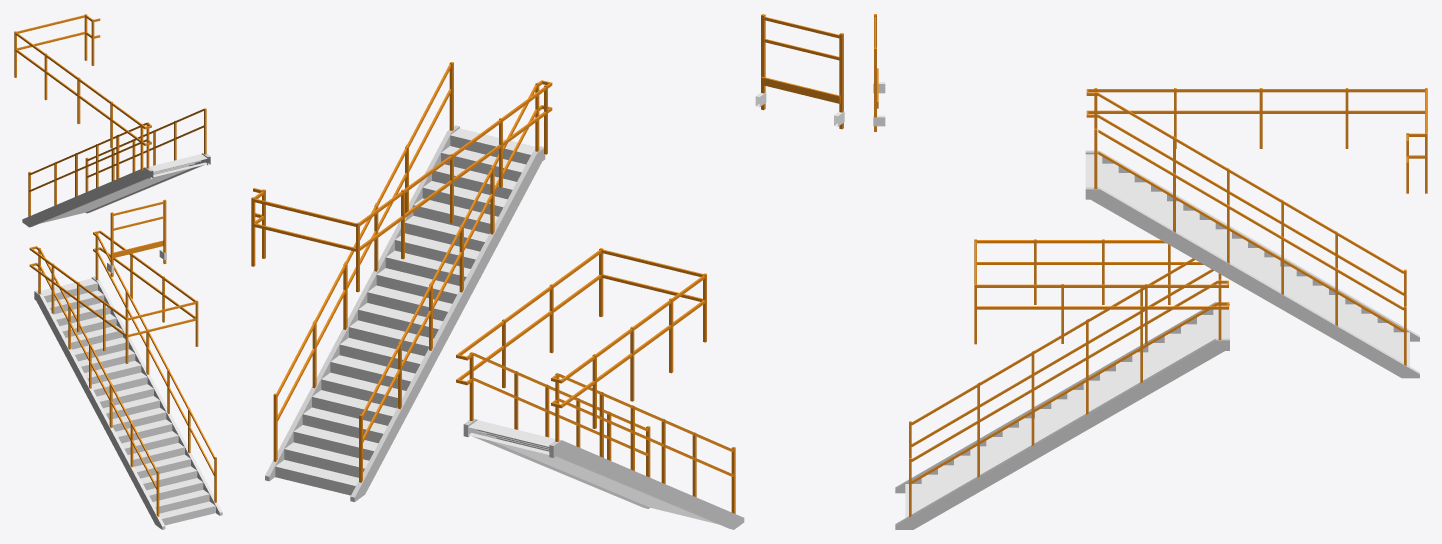
File: SM_H_Building_Tide_DeepJail_04_Shelf_02c_ATLAS.fbx
3 views of the same model, side by side, from view 1: azimuth 30°, elevation 25°; view 2: azimuth 150°, elevation 25°; view 3: azimuth 270°, elevation 25° (orthographic). The views are drawn at different scales.
Parts seen in each view (by area): view 1: SM_H_Building_Tide_DeepJail_04_Shelf_02c_ATLAS; view 2: SM_H_Building_Tide_DeepJail_04_Shelf_02c_ATLAS; view 3: SM_H_Building_Tide_DeepJail_04_Shelf_02c_ATLAS.
Part boxes in pixels (x1,y1,x2,y2): SM_H_Building_Tide_DeepJail_04_Shelf_02c_ATLAS: (14,14,222,529); SM_H_Building_Tide_DeepJail_04_Shelf_02c_ATLAS: (251,14,844,529); SM_H_Building_Tide_DeepJail_04_Shelf_02c_ATLAS: (873,14,1427,529).
Bounding box in the file's own units: 425 × 809 × 709.
